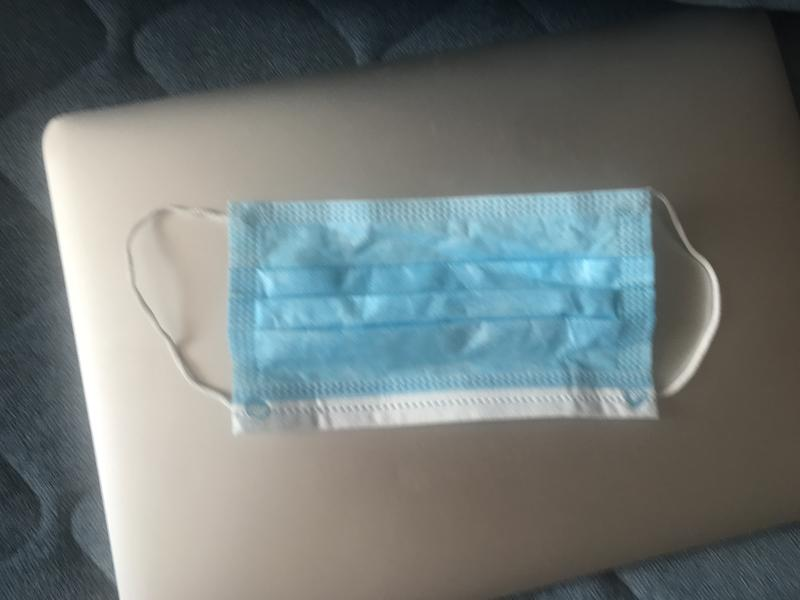medical_mask: (124, 186, 720, 432)
